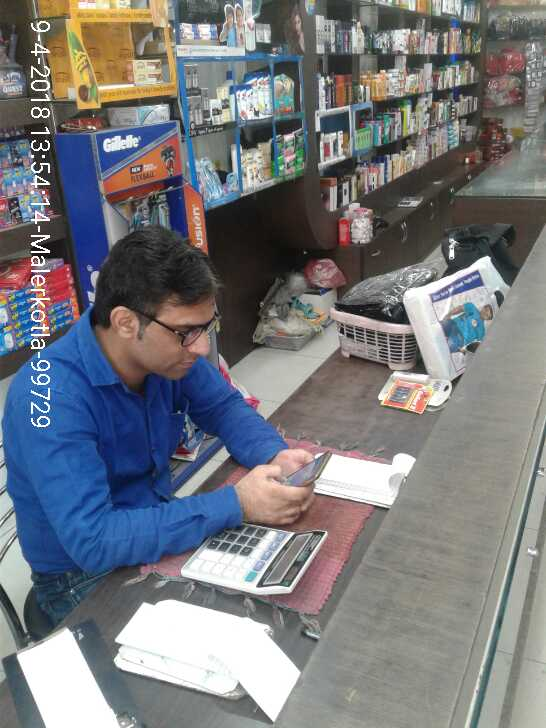gillete: (123, 184, 172, 228)
